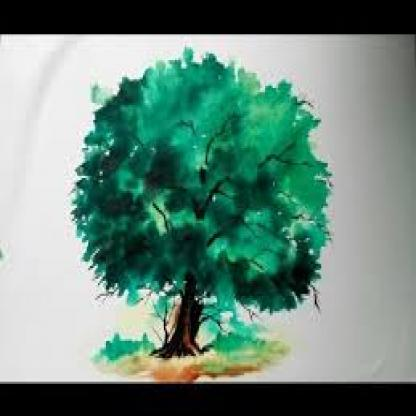crown_dizzy: (71, 46, 335, 319)
root_none: (151, 338, 209, 374)
trunk_reflex: (169, 305, 201, 344)
